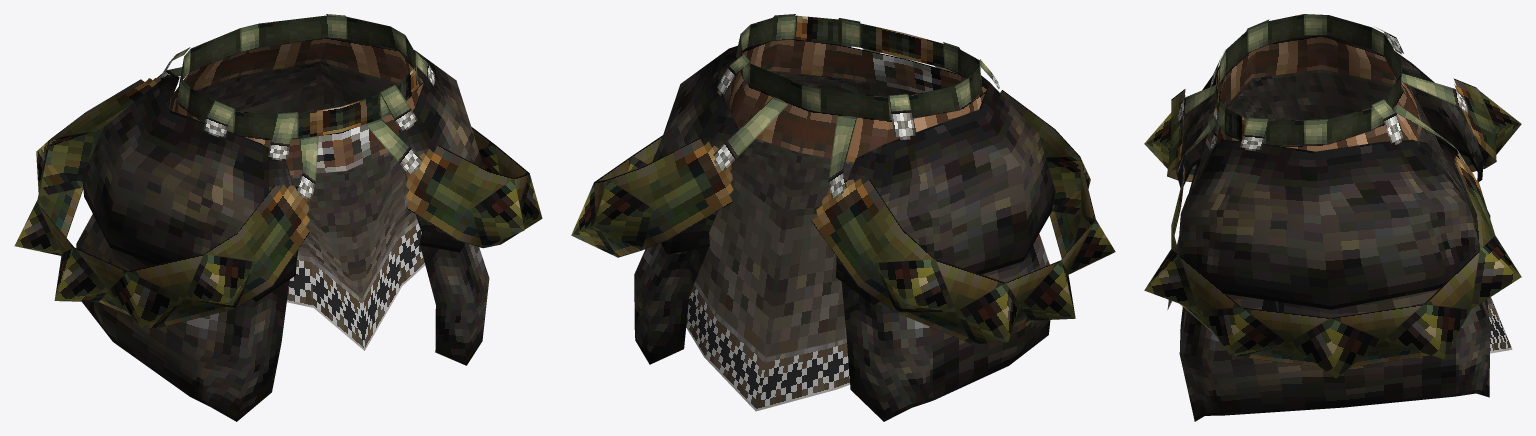
The model's file is m_waist261.obj.
3 renders of one model, left to right at view 1: azimuth 30°, elevation 25°; view 2: azimuth 150°, elevation 25°; view 3: azimuth 270°, elevation 25°, orthographic.
Parts seen in each view (by area): view 1: mesh00, mesh01; view 2: mesh00, mesh01; view 3: mesh00, mesh01.
Part boxes in pixels (x1,y1,x2,y2): mesh00: (14, 14, 542, 421); mesh01: (287, 219, 425, 350); mesh00: (571, 14, 1115, 421); mesh01: (686, 281, 849, 411); mesh00: (1144, 14, 1521, 421); mesh01: (1167, 144, 1512, 353).
Bounding box in the file's own units: 72.62 × 44.98 × 51.38.
2 materials, 2 textured.
